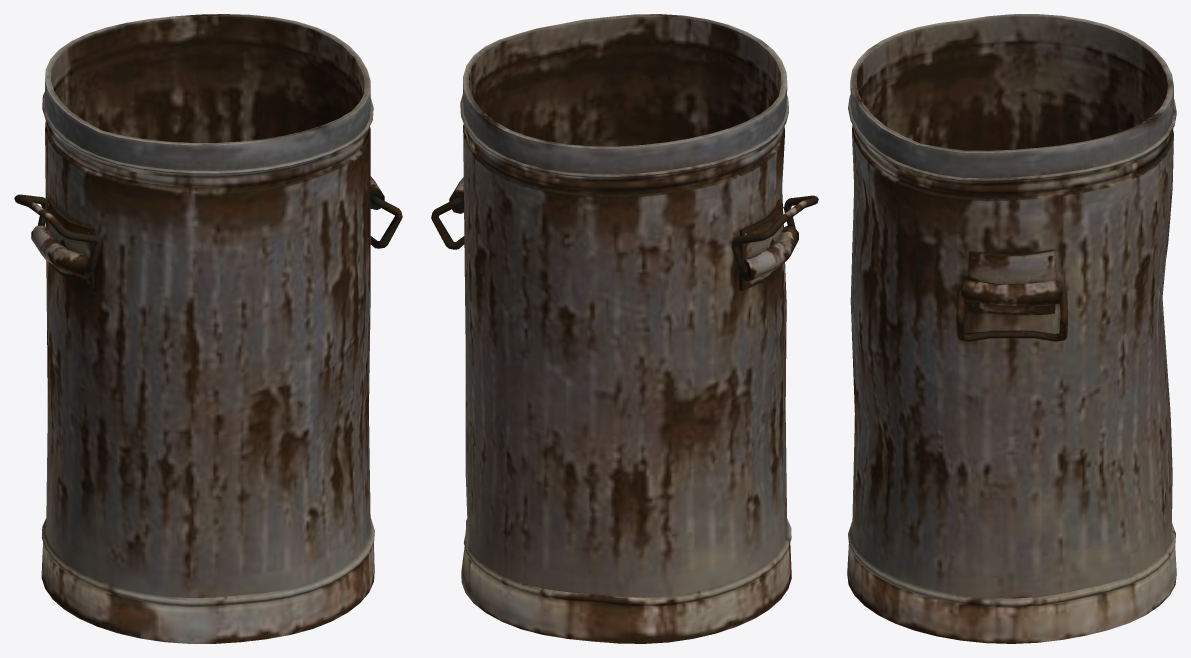
Rendered from metal_trash_can-rusted.glb.
The picture shows the model from 3 angles, left to right: view 1: azimuth 30°, elevation 25°; view 2: azimuth 150°, elevation 25°; view 3: azimuth 270°, elevation 25°; orthographic projection.
Visible parts, largest first — view 1: metal_trash_can_rust; view 2: metal_trash_can_rust; view 3: metal_trash_can_rust.
Boxes of the visible parts, bbox=[...] form: metal_trash_can_rust: bbox=[14, 14, 402, 643]; metal_trash_can_rust: bbox=[431, 14, 818, 643]; metal_trash_can_rust: bbox=[847, 14, 1176, 643].
Size of the model in its own units: 0.6454 by 0.9062 by 0.5482.
Materials: 1 (1 with a texture image).
